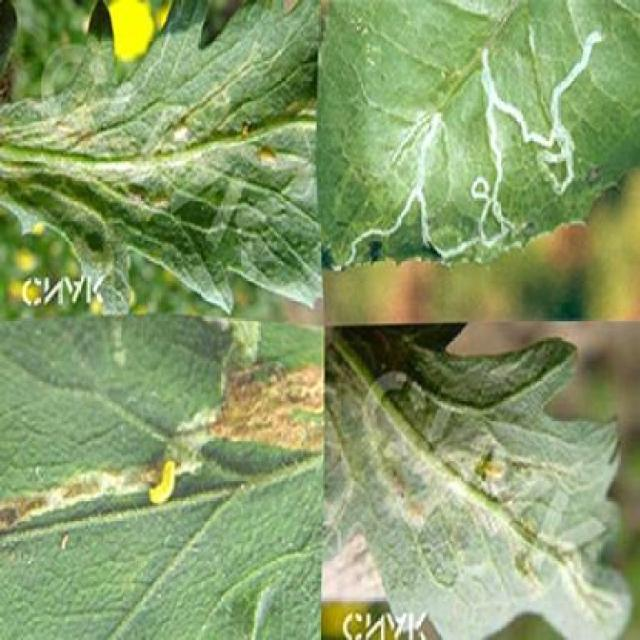whorl-maggot: (148, 455, 180, 514), (258, 138, 280, 174)
